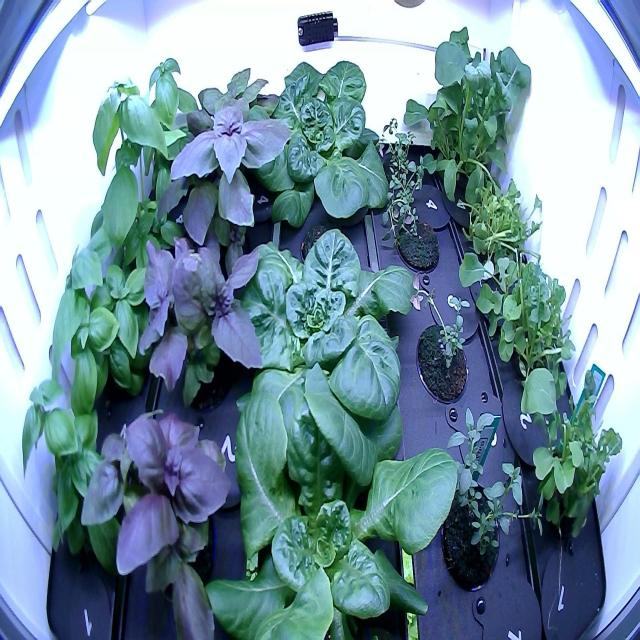young: (186, 366, 466, 640), (202, 200, 426, 486), (235, 46, 398, 242)
